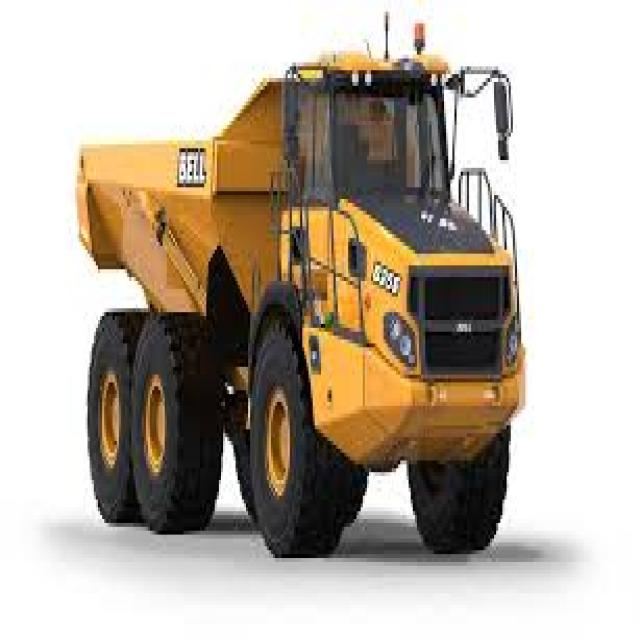dump_truck: (74, 12, 526, 576)
